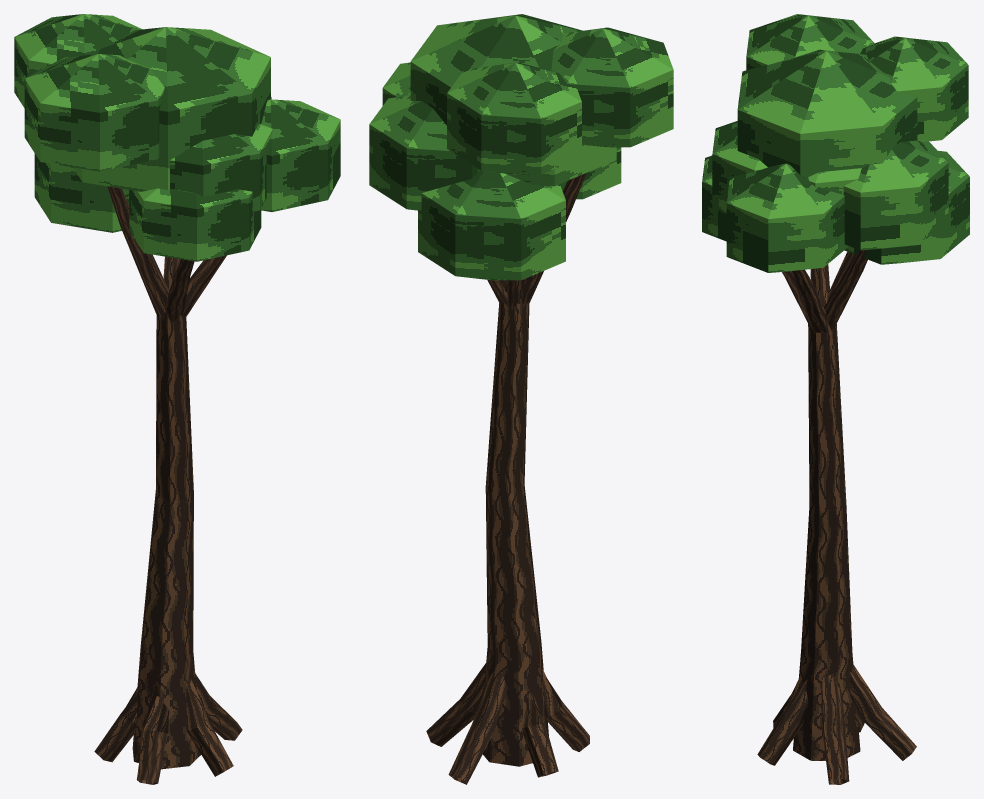
The model's file is arbolmayorIsla5.gltf.
3 renders of one model, left to right at view 1: azimuth 30°, elevation 25°; view 2: azimuth 150°, elevation 25°; view 3: azimuth 270°, elevation 25°, orthographic. The views are drawn at different scales.
Parts seen in each view (by area): view 1: FLO-16_Arbol_mayor.053; view 2: FLO-16_Arbol_mayor.053; view 3: FLO-16_Arbol_mayor.053.
Part boxes in pixels (left/top/right/bottom): FLO-16_Arbol_mayor.053: left=14, top=14, right=340, bottom=784; FLO-16_Arbol_mayor.053: left=369, top=14, right=673, bottom=784; FLO-16_Arbol_mayor.053: left=702, top=14, right=969, bottom=784.
Bounding box in the file's own units: 7.35 × 18.08 × 6.24.
1 material, 1 textured.
